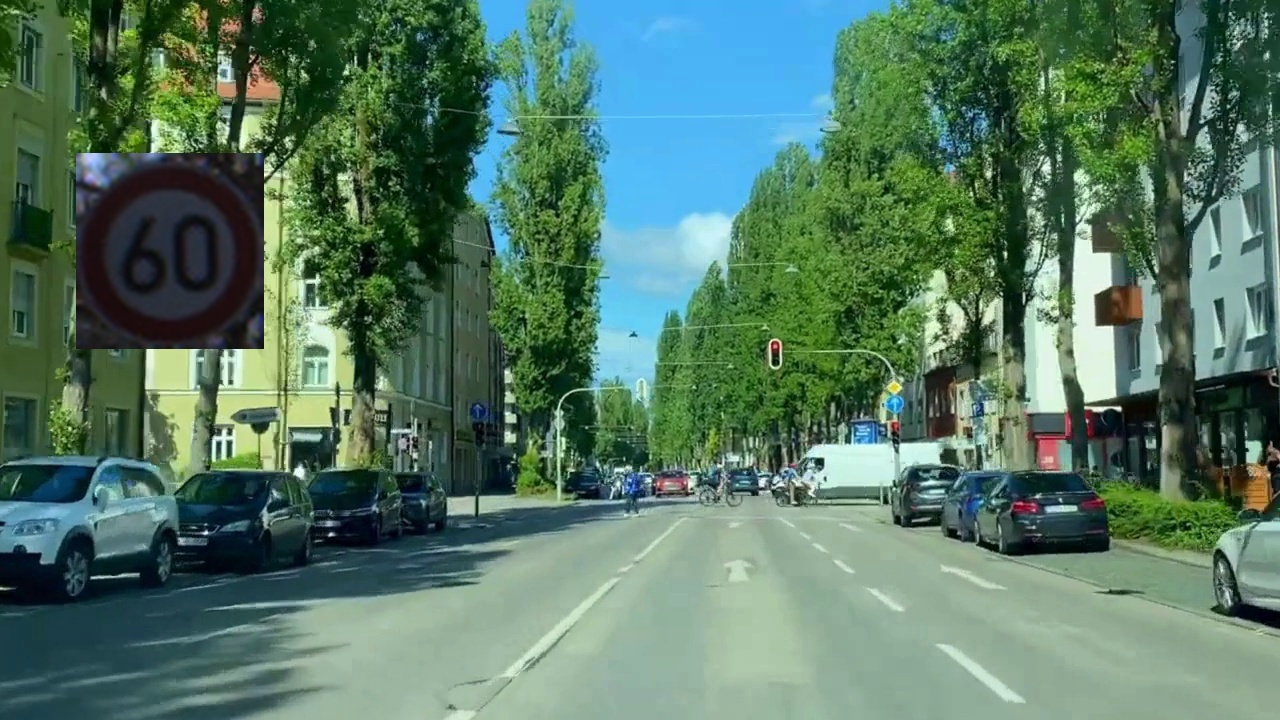Speed 60: (76, 153, 264, 349)
